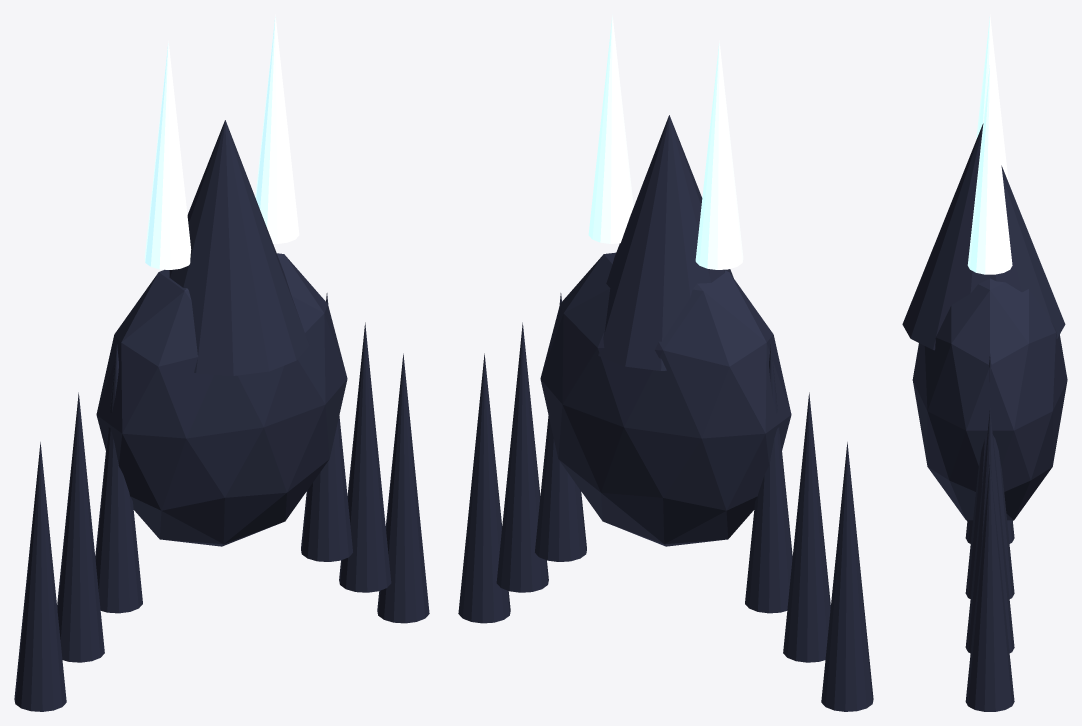
File: celestial-regent-lod0.glb
The picture shows the model from 3 angles, left to right: view 1: azimuth 30°, elevation 25°; view 2: azimuth 150°, elevation 25°; view 3: azimuth 270°, elevation 25°; orthographic projection. The views are drawn at different scales.
Parts seen in each view (by area): view 1: Body, Head, Claw.-1.2, Claw.-1.1, Claw.1.1, Claw.1.2, Claw.-1.0, Horn.-1, Horn.1, Claw.1.0; view 2: Body, Head, Claw.-1.2, Claw.-1.1, Claw.1.1, Claw.1.2, Claw.-1.0, Horn.-1, Horn.1, Claw.1.0; view 3: Body, Head, Claw.1.2, Horn.1, Claw.1.1, Claw.1.0, Horn.-1.
Boxes of the visible parts, x1,y1,x2,y2 form: Body: (96, 253, 347, 546); Head: (169, 120, 309, 375); Claw.-1.2: (14, 442, 66, 711); Claw.-1.1: (57, 392, 104, 662); Claw.1.1: (339, 322, 391, 592); Claw.1.2: (377, 353, 429, 623); Claw.-1.0: (95, 344, 142, 613); Horn.-1: (144, 40, 191, 269); Horn.1: (255, 14, 299, 243); Claw.1.0: (301, 293, 352, 561); Body: (540, 252, 791, 546); Head: (598, 115, 733, 370); Claw.-1.2: (821, 442, 873, 711); Claw.-1.1: (783, 392, 830, 662); Claw.1.1: (496, 322, 548, 592); Claw.1.2: (458, 353, 510, 623); Claw.-1.0: (745, 344, 792, 613); Horn.-1: (695, 40, 743, 269); Horn.1: (588, 14, 633, 243); Claw.1.0: (535, 293, 586, 561); Body: (912, 278, 1067, 520); Head: (902, 123, 1065, 350); Claw.1.2: (965, 462, 1014, 711); Horn.1: (967, 63, 1012, 274); Claw.1.1: (965, 408, 1014, 653); Claw.1.0: (965, 354, 1014, 598); Horn.-1: (976, 14, 1008, 181).
Bounding box in the file's own units: 3.52 × 5.2 × 1.34.
